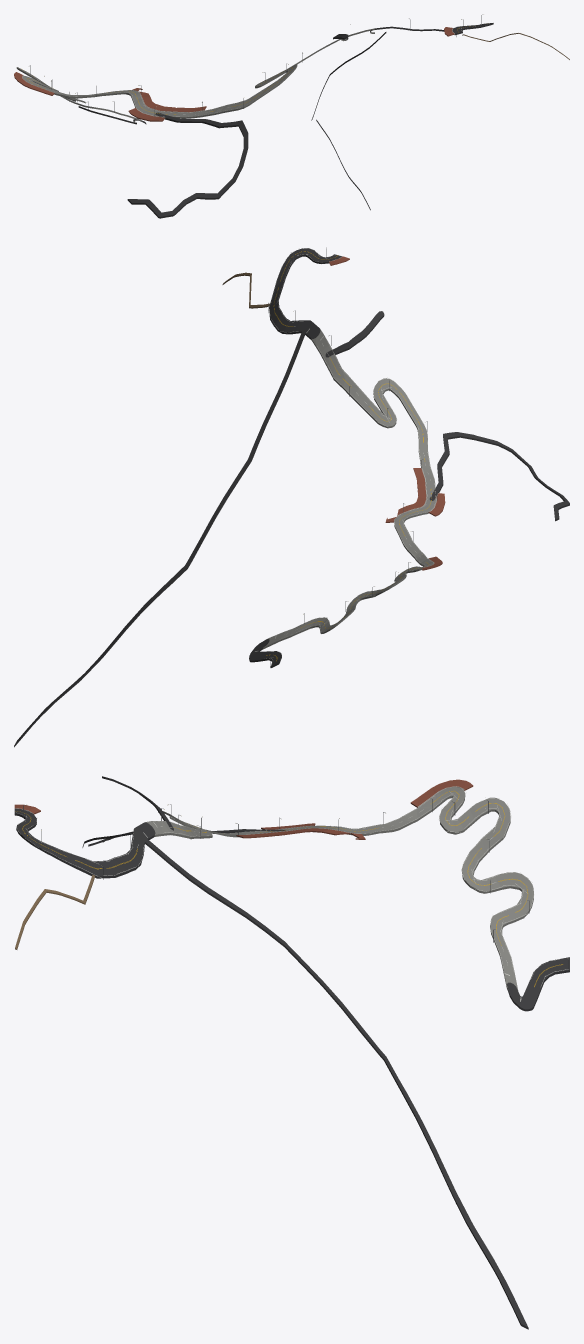
The picture shows the model from 3 angles, top to bottom: view 1: azimuth 30°, elevation 25°; view 2: azimuth 150°, elevation 25°; view 3: azimuth 270°, elevation 25°; orthographic projection. The views are drawn at different scales.
Size of the model in its own units: 294 by 267 by 292.
